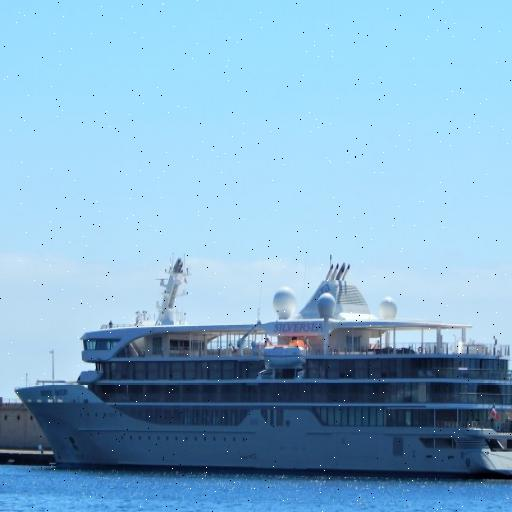cruises: (12, 253, 512, 488)
